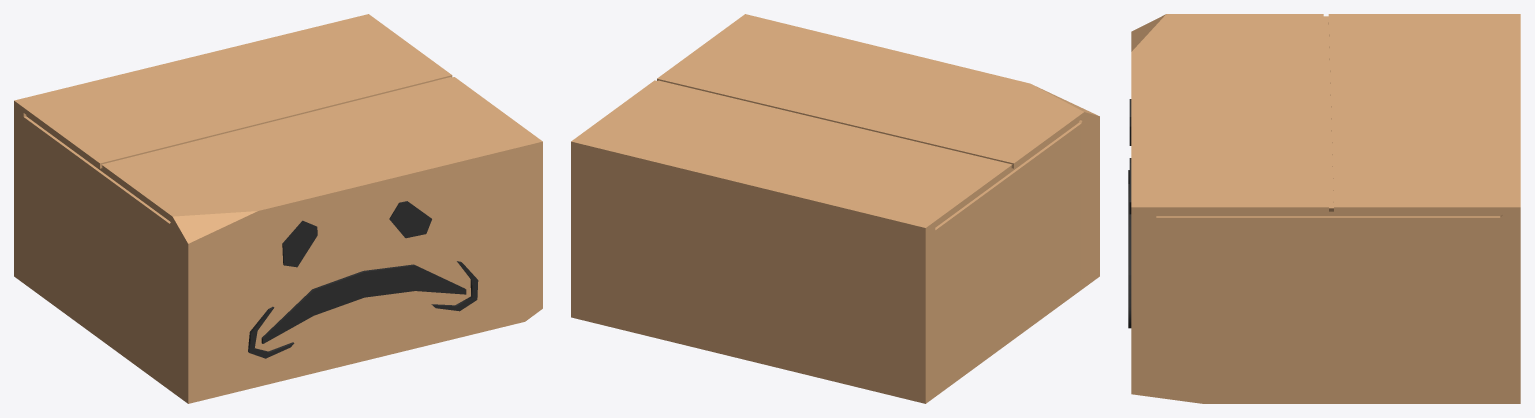
Rendered from SM_Box_Closed.fbx.
The picture shows the model from 3 angles, left to right: view 1: azimuth 30°, elevation 25°; view 2: azimuth 150°, elevation 25°; view 3: azimuth 270°, elevation 25°; orthographic projection. The views are drawn at different scales.
Visible parts, largest first — view 1: Box_Closed, Face1; view 2: Box_Closed; view 3: Box_Closed, Face1.
Boxes of the visible parts, x1,y1,x2,y2 form: Box_Closed: (14, 14, 542, 403); Face1: (248, 201, 478, 358); Box_Closed: (571, 14, 1099, 403); Box_Closed: (1131, 14, 1520, 403); Face1: (1128, 99, 1131, 328).
Size of the model in its own units: 81.67 by 38.7 by 70.06.
